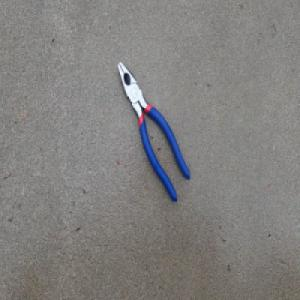Pliers: (116, 60, 191, 203)
